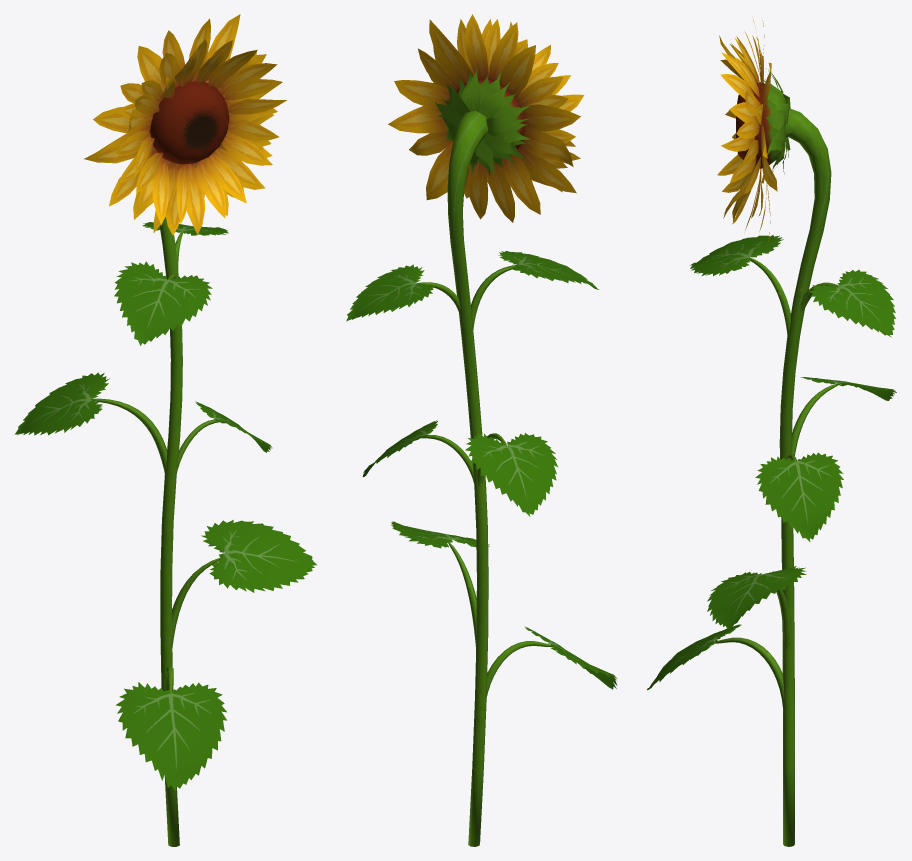
The model's file is sunflower.glb.
3 views of the same model, side by side, from view 1: azimuth 30°, elevation 25°; view 2: azimuth 150°, elevation 25°; view 3: azimuth 270°, elevation 25° (orthographic). The views are drawn at different scales.
Visible parts, largest first — view 1: Sunflower; view 2: Sunflower; view 3: Sunflower.
Boxes of the visible parts, x1,y1,x2,y2 form: Sunflower: (15, 14, 316, 846); Sunflower: (346, 14, 617, 846); Sunflower: (647, 19, 896, 846).
Size of the model in its own units: 0.6341 by 2.24 by 0.6233.
1 material, 1 textured.
